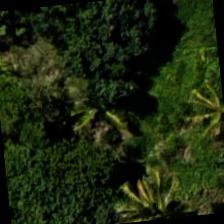Kelapa_Sawit: (48, 66, 147, 165), (110, 167, 206, 223), (172, 64, 223, 160)
